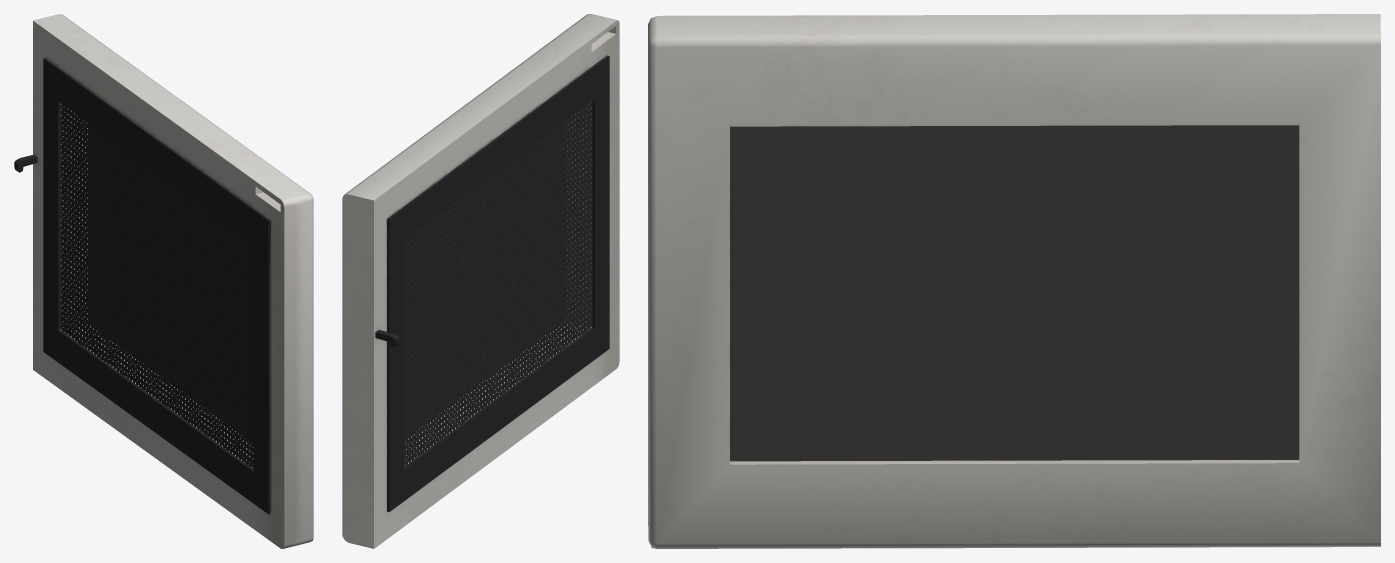
File: meshId0_name.dae
3 renders of one model, left to right at view 1: azimuth 30°, elevation 25°; view 2: azimuth 150°, elevation 25°; view 3: azimuth 270°, elevation 25°, orthographic. The views are drawn at different scales.
Parts seen in each view (by area): view 1: Door; view 2: Door; view 3: Door.
Part boxes in pixels (<box>): Door: <box>14,14,313,548</box>; Door: <box>342,14,619,548</box>; Door: <box>648,14,1380,548</box>.
Bounding box in the file's own units: 0.0527 × 0.418 × 0.3235.
Materials: 1 (1 with a texture image).
